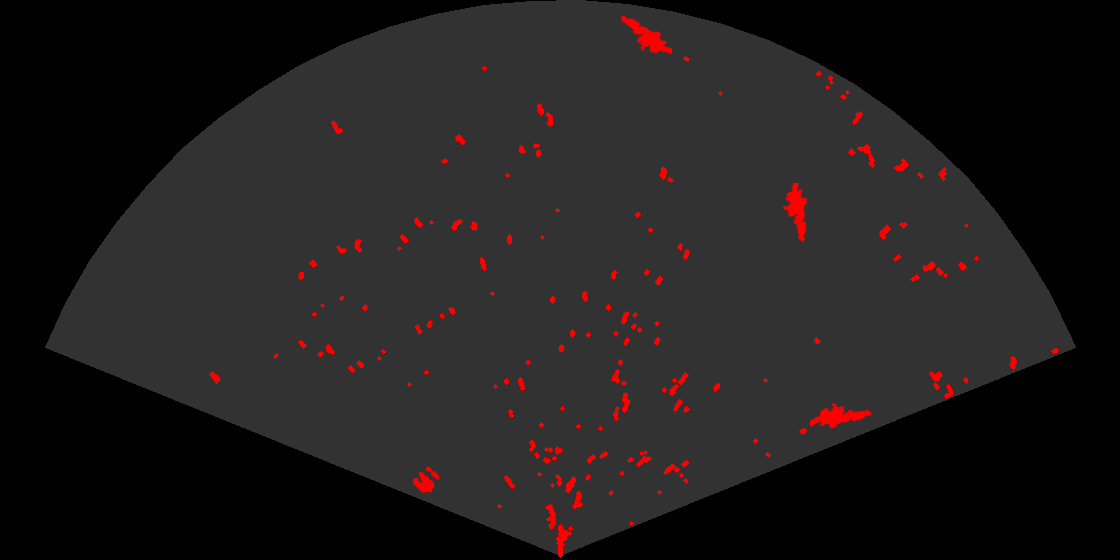ball: (411, 465, 441, 495)
frogman: (618, 14, 672, 56), (810, 401, 874, 430), (781, 183, 809, 244)
